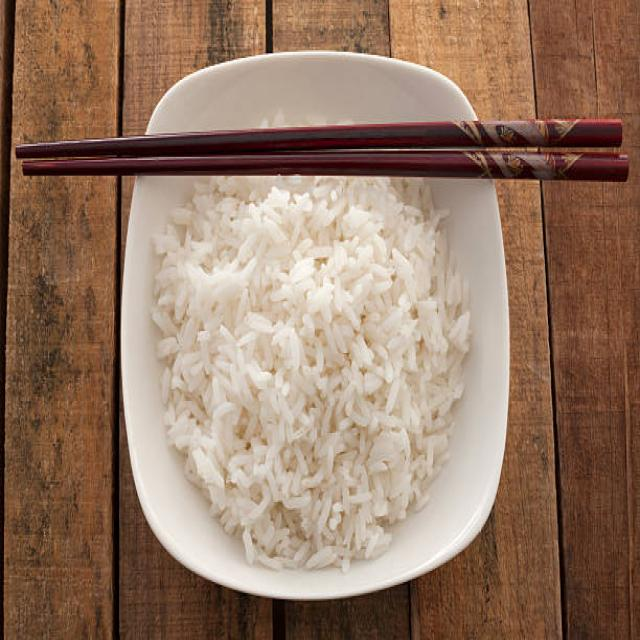Rice: (148, 110, 474, 569)
